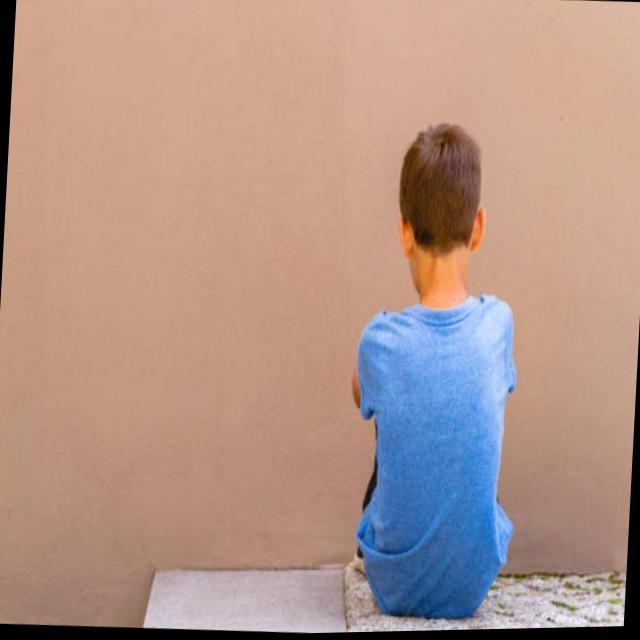no helmet: (366, 113, 506, 332)
